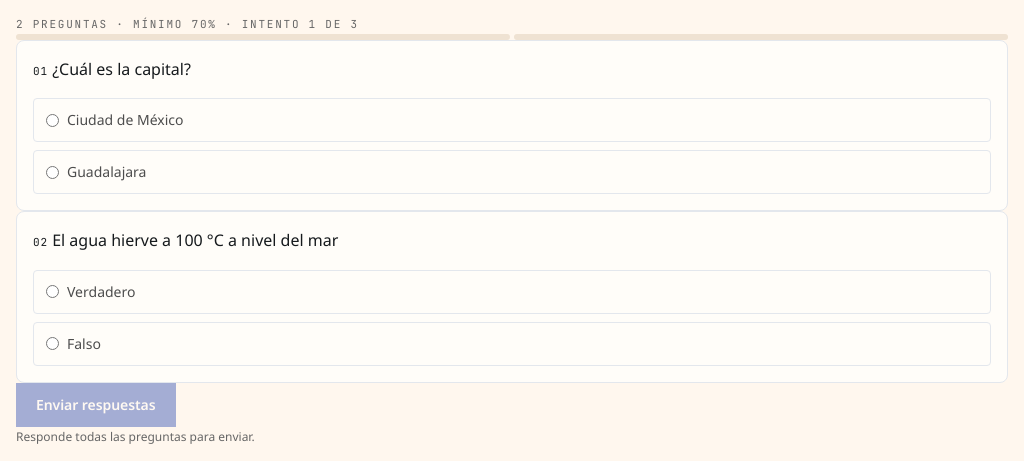
it: EvaluacionPanel › envía las respuestas y muestra la calificación del servidor
The width and height of the screenshot is (1024, 461).
Click the radio button labelled "Ciudad de México": (52, 120) [46, 114, 59, 127]
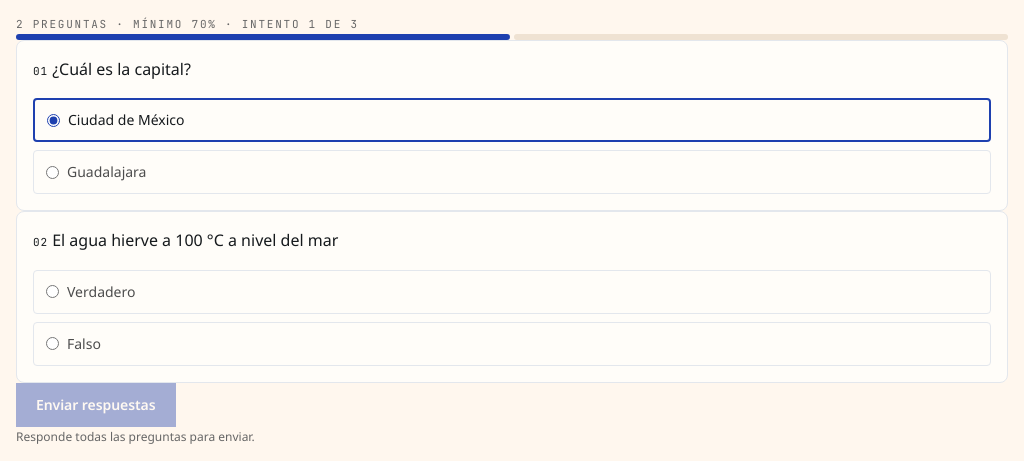
Click the radio button labelled "Verdadero": (52, 292) [46, 285, 59, 298]
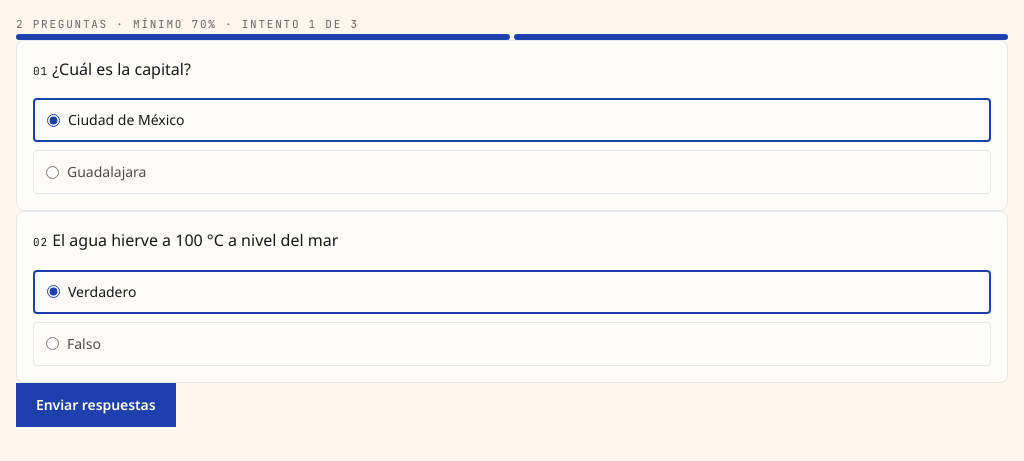
Submit the form
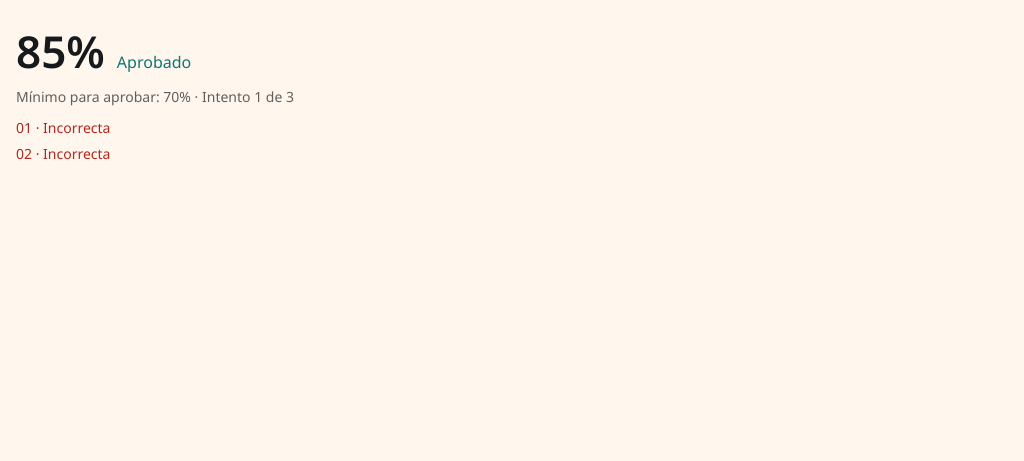
Check: the text "85%" is shown, box [16, 16, 105, 86]
Check: the text "Aprobado" is shown, box [117, 50, 191, 76]
